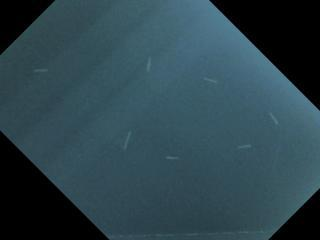crack: (107, 225, 277, 240)
scratch: (116, 125, 137, 155), (263, 107, 285, 131), (141, 51, 159, 77), (29, 60, 52, 78), (232, 139, 255, 156), (161, 150, 185, 166), (200, 70, 221, 88)
